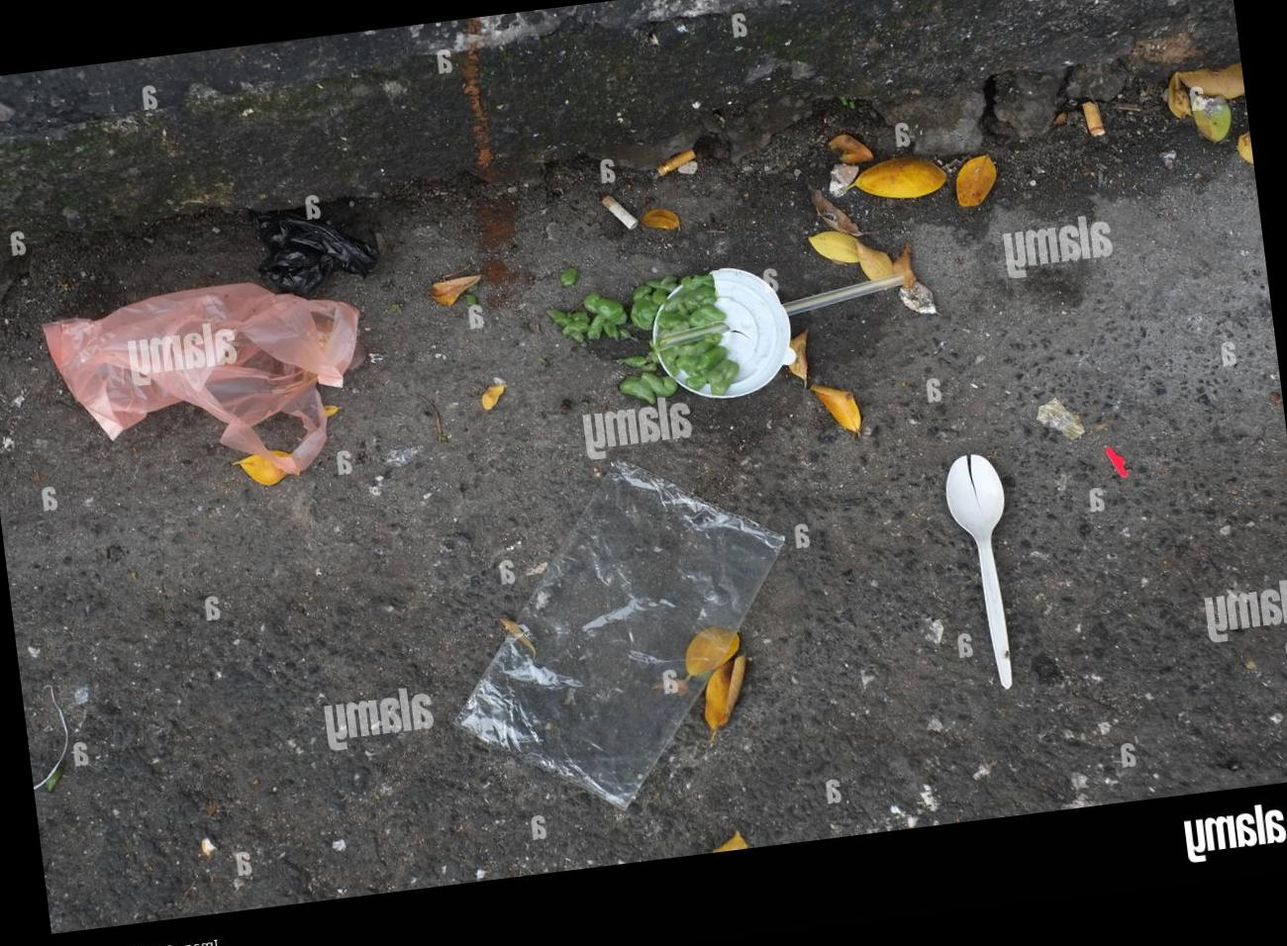road: (0, 85, 1287, 929)
trash: (458, 462, 784, 806)
